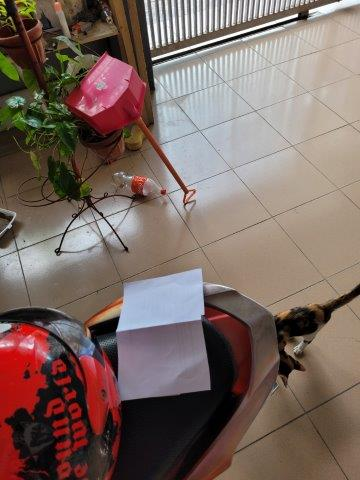botolplastik: (108, 171, 170, 198)
kertas: (114, 268, 211, 398)
